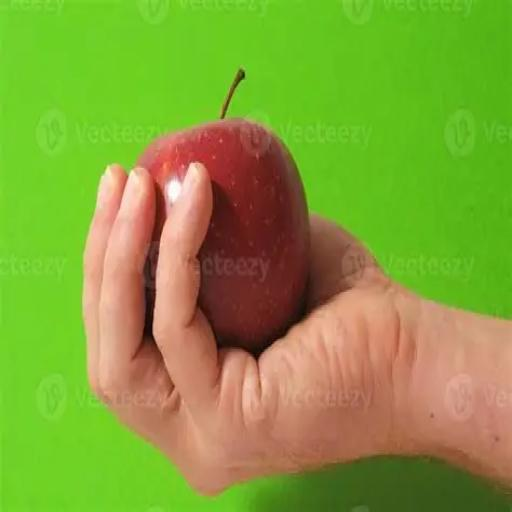apple: (138, 71, 310, 352)
